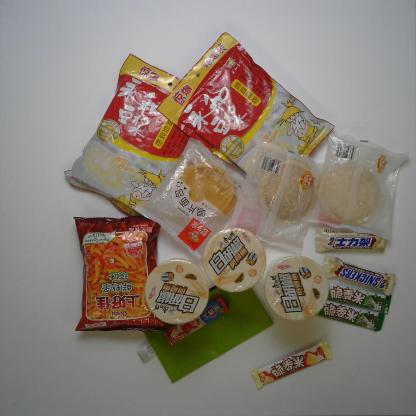Candy: (157, 294, 231, 352)
Chocolate: (250, 337, 342, 391), (317, 250, 400, 300), (311, 223, 394, 259), (322, 278, 396, 318), (311, 303, 393, 332)
Dessert: (134, 130, 263, 252), (315, 116, 408, 252), (232, 140, 331, 264)
Instant Drink: (58, 39, 230, 236), (157, 27, 351, 187)
Instant Noodles: (254, 245, 347, 329), (131, 247, 210, 335), (194, 218, 274, 303)
Puffed Food: (64, 203, 176, 346)
Stationery: (140, 269, 276, 389)
